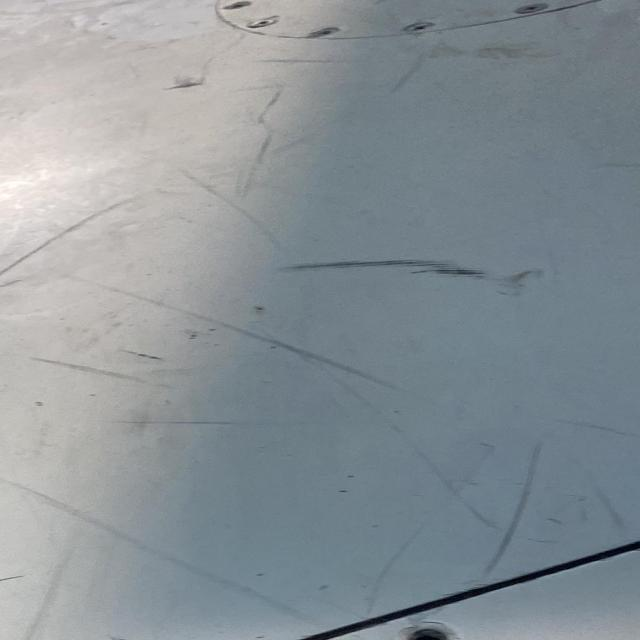Missing-head: (397, 618, 460, 640)
